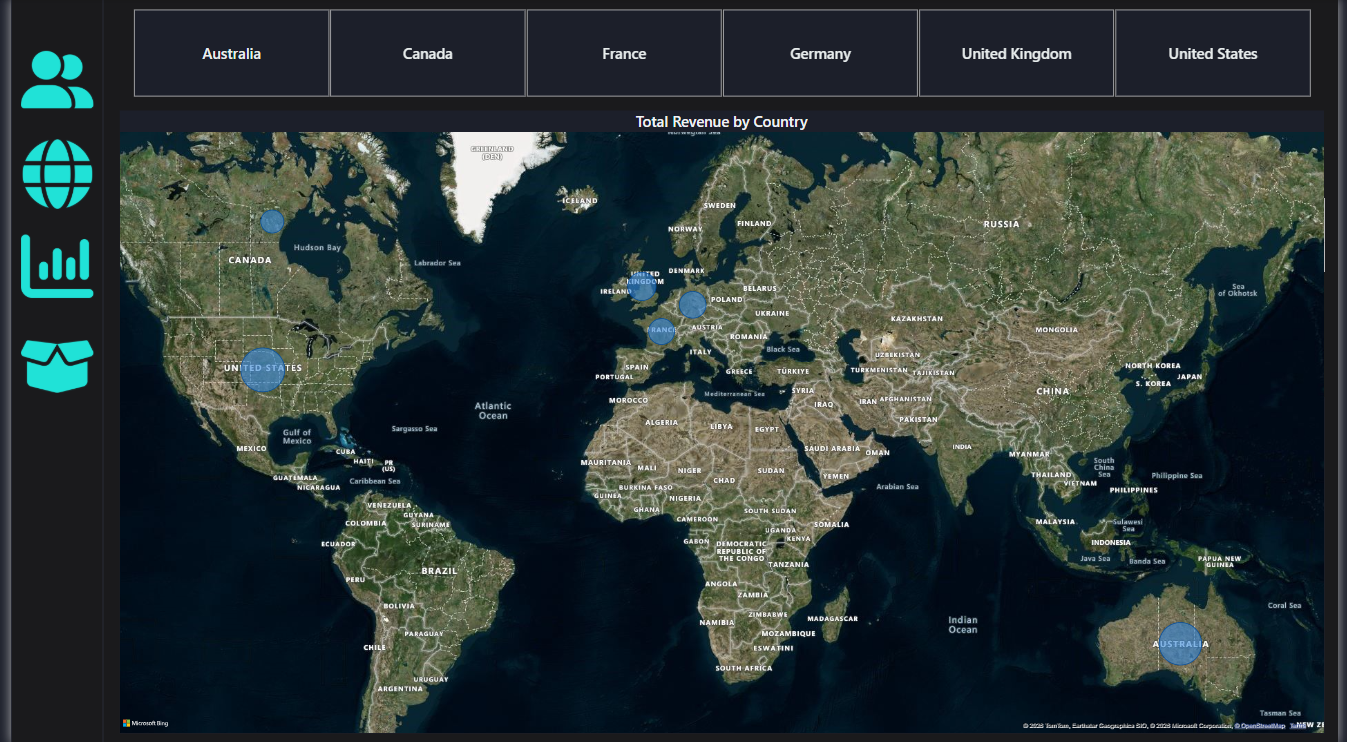

This screenshot's page, from the dashboard's own definition file:
{"tool":"powerbi","page":{"name":"Geolocation","canvas":[1920,1080],"ordinal":1},"visuals":[{"type":"shape","box":[0,0,133.9,1080.4],"z":0},{"type":"map","title":"Total Revenue by Country","fields":{"Category":["Dim_Territory.Country"],"Size":["Measure.Total Revenue"]},"box":[157.4,162.9,1742.7,901.2],"z":1000},{"type":"slicer","fields":{"Values":["Dim_Territory.Country"]},"box":[157.4,14.5,1742.7,130.3],"z":2000},{"type":"group","id":"g1","title":"Group 1","box":[14.5,59.4,105,535.7],"z":3000},{"type":"image","box":[14.5,59.4,105,116.8],"z":13000,"group":"g1"},{"type":"image","box":[14.5,205,105,100.7],"z":14000,"group":"g1"},{"type":"image","box":[14.5,330.8,105,115],"z":15000,"group":"g1"},{"type":"image","box":[14.5,472.8,105,122.2],"z":17000,"group":"g1"}]}

Visuals, with their boxes on the page's 1920x1080 design canvas (x1, y1, x2, y2). These are canvas units, not pixel positions in the 1347x742 screenshot, which may show the page scaled, cropped or inside an application window:
shape: [0, 0, 134, 1080]
"Total Revenue by Country" map: [157, 163, 1900, 1064]
slicer - Dim_Territory.Country: [157, 14, 1900, 145]
"Group 1" group: [14, 59, 120, 595]
image: [14, 59, 120, 176]
image: [14, 205, 120, 306]
image: [14, 331, 120, 446]
image: [14, 473, 120, 595]
